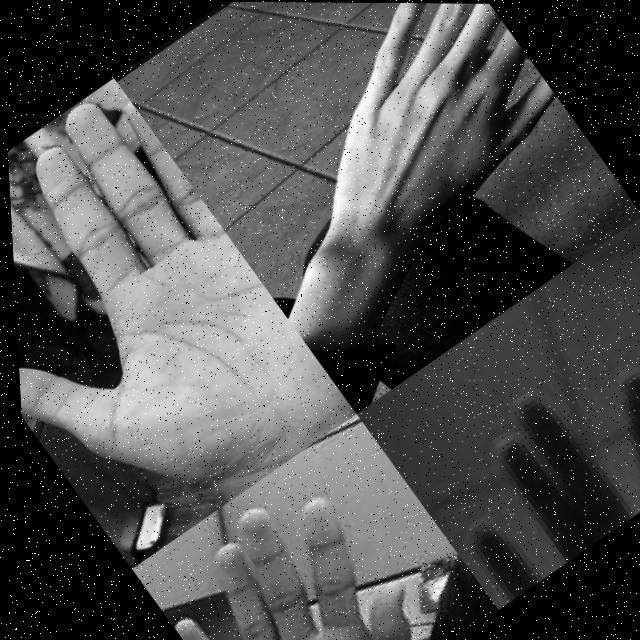no-gloves: (3, 76, 357, 569), (190, 1, 592, 306), (399, 312, 640, 604), (129, 458, 443, 640)
